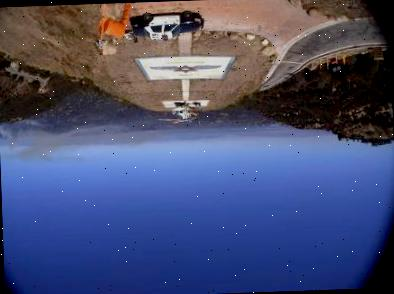smoke: (0, 117, 108, 169)
